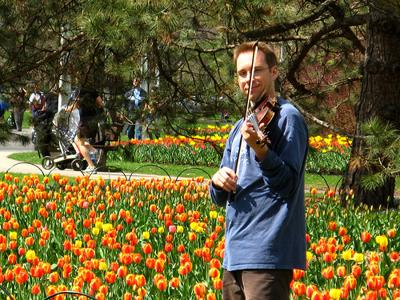person: (209, 40, 311, 300)
